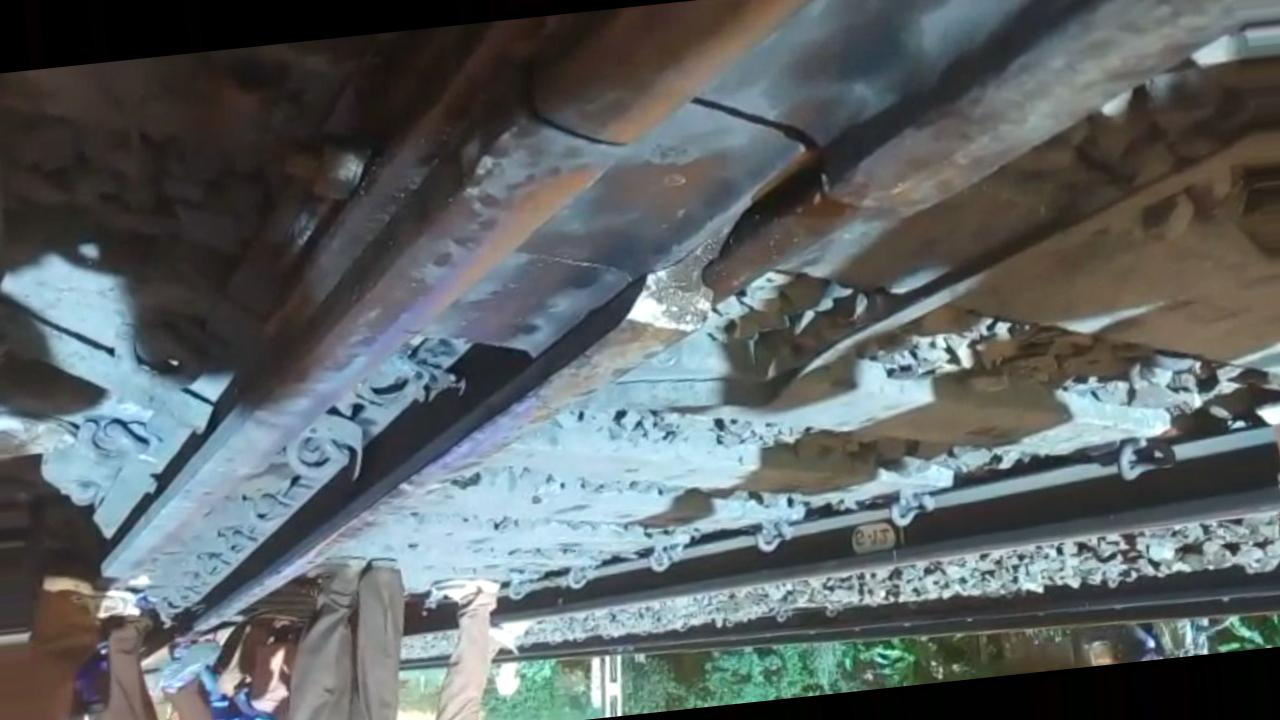tracks_fault: (509, 208, 881, 423)
